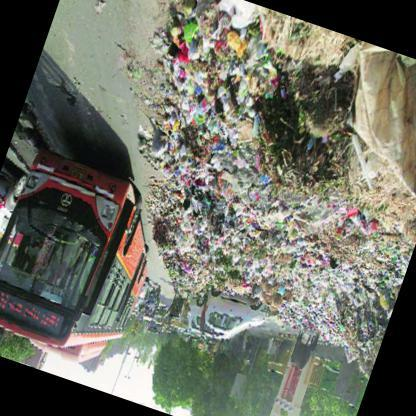Garbage: (166, 180, 390, 328), (129, 0, 253, 151), (308, 229, 410, 354), (164, 169, 260, 294), (175, 42, 263, 128), (300, 249, 360, 322), (150, 118, 194, 170), (170, 230, 212, 269), (166, 38, 200, 82), (270, 210, 298, 244), (169, 89, 199, 119), (146, 180, 170, 212)
